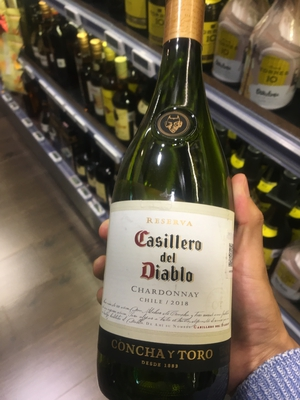casillero del diablo chardonnay: (101, 6, 235, 390)
